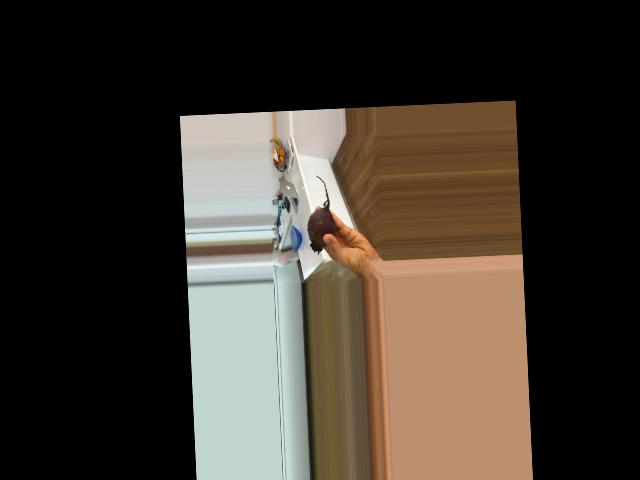beet: (305, 174, 336, 254)
